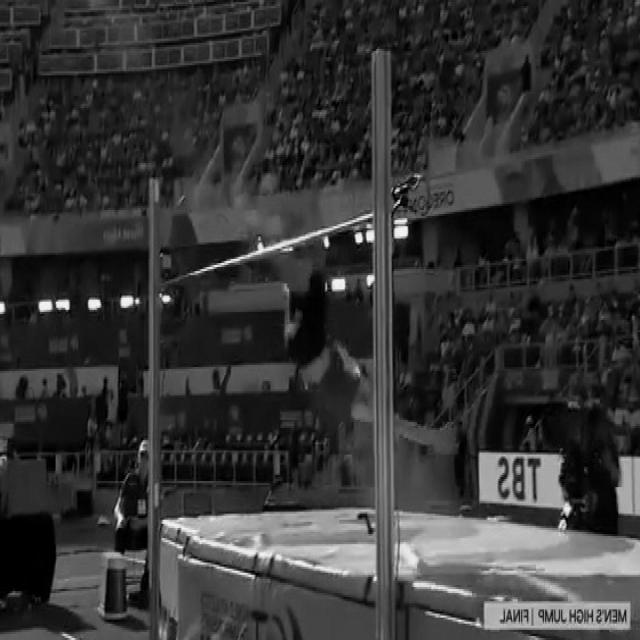land: (238, 184, 456, 453)
